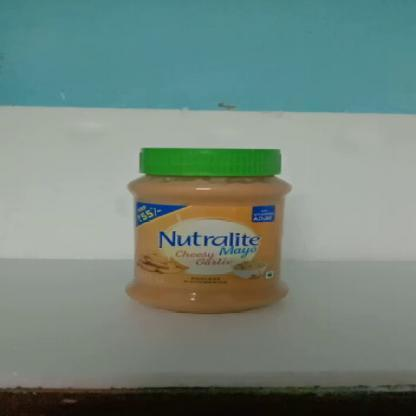Nutralite CHEESY GARLIC MAYO 300g-275g-25g-: (140, 148, 282, 304)
